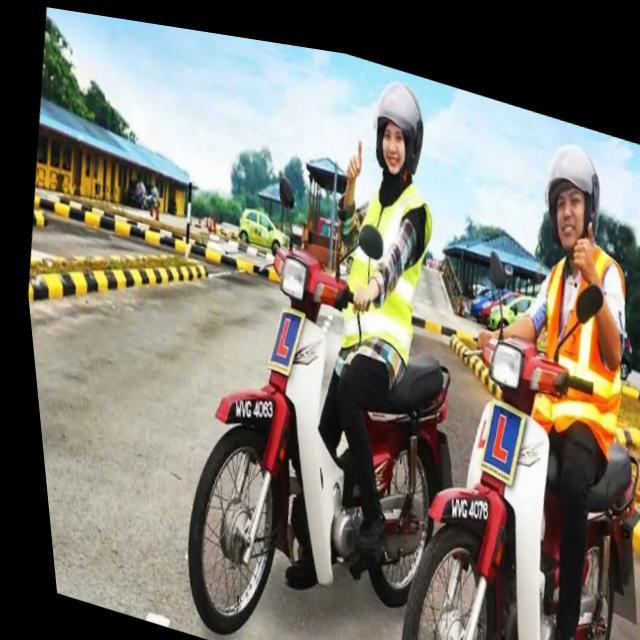Helmet: (360, 75, 436, 187), (540, 136, 600, 257)
